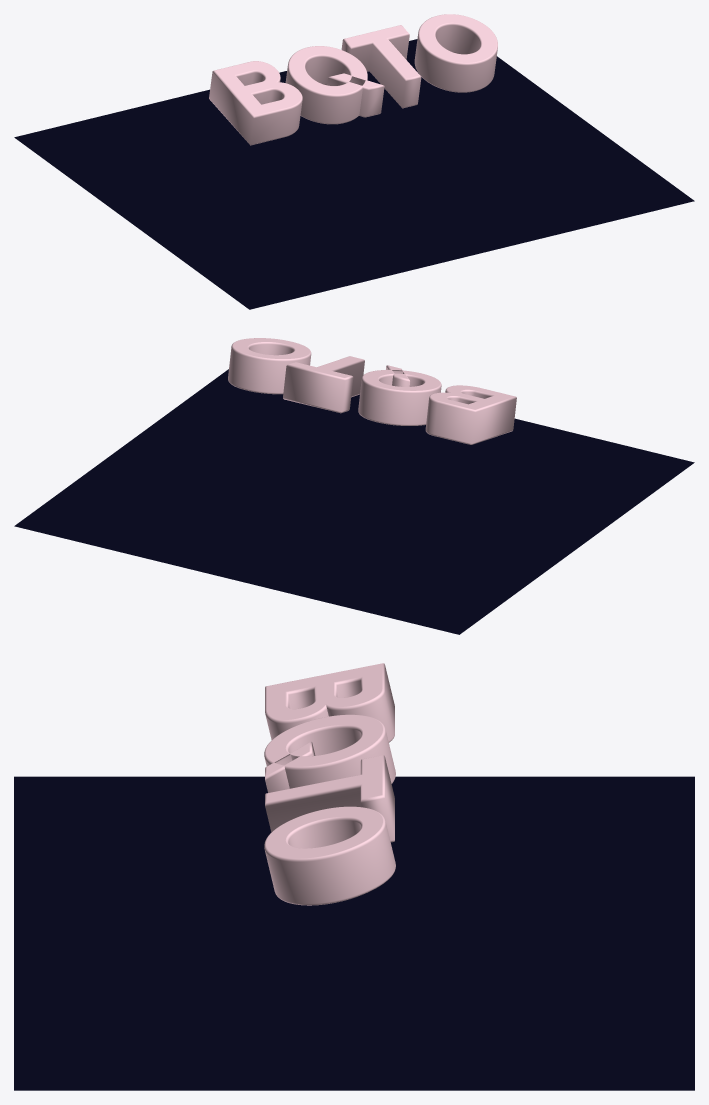
File: bqto2.obj
3 renders of one model, top to bottom at view 1: azimuth 30°, elevation 25°; view 2: azimuth 150°, elevation 25°; view 3: azimuth 270°, elevation 25°, orthographic. The views are drawn at different scales.
Visible parts, largest first — view 1: Plane, Text.001_Text.003; view 2: Plane, Text.001_Text.003; view 3: Plane, Text.001_Text.003.
Part boxes in pixels (x1,y1,x2,y2): Plane: (14,39,694,309); Text.001_Text.003: (209,14,497,145); Plane: (14,369,694,634); Text.001_Text.003: (228,338,516,444); Plane: (14,776,694,1090); Text.001_Text.003: (264,663,395,905).
Bounding box in the file's own units: 1.9 × 0.5024 × 1.74.
